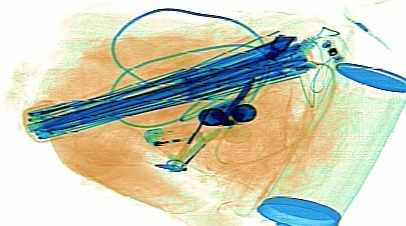lighter: (143, 111, 245, 147)
